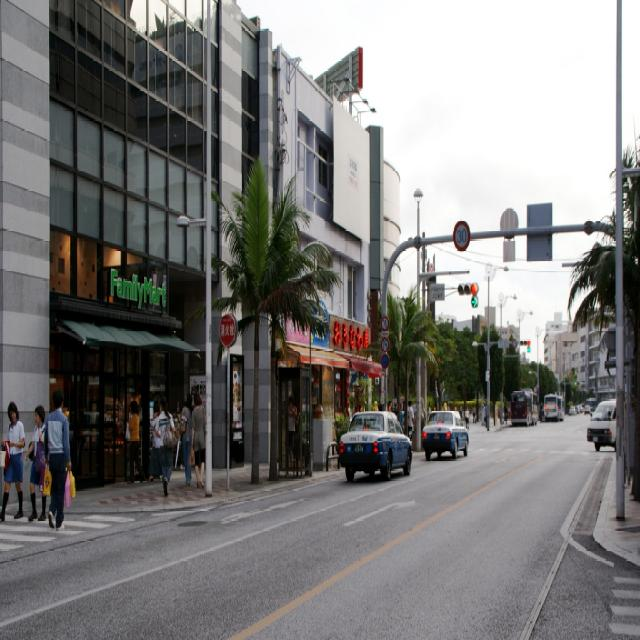other: (334, 406, 412, 475), (423, 408, 468, 458), (568, 402, 590, 415)
